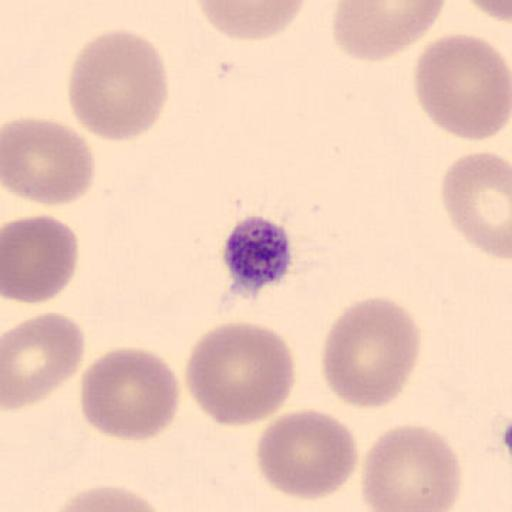Platelet: (219, 213, 296, 298)
RBC: (184, 320, 298, 428), (66, 27, 170, 142), (320, 295, 422, 410), (412, 32, 511, 142), (254, 407, 360, 503), (78, 345, 181, 443), (358, 423, 464, 512), (0, 311, 88, 411), (2, 116, 98, 207), (439, 150, 512, 260), (2, 212, 80, 306), (331, 0, 446, 63), (194, 0, 308, 41), (43, 484, 172, 512), (462, 0, 512, 23), (478, 0, 512, 23)
